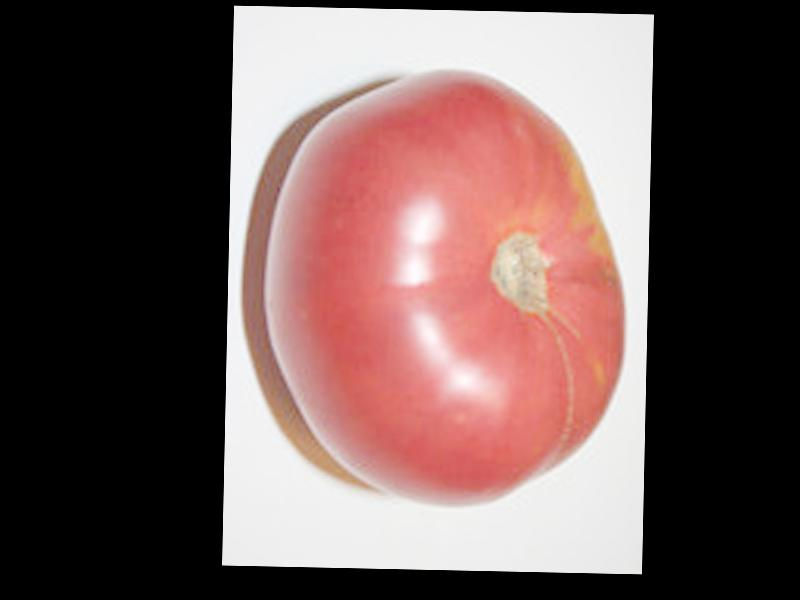Tomato: (270, 63, 635, 512)
